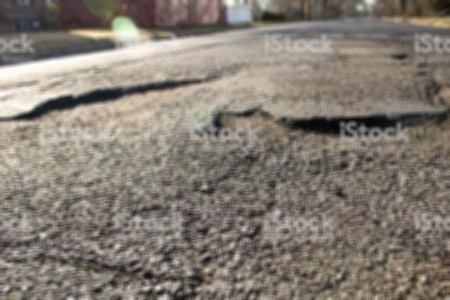pothole: (6, 72, 216, 135), (205, 104, 449, 149)
